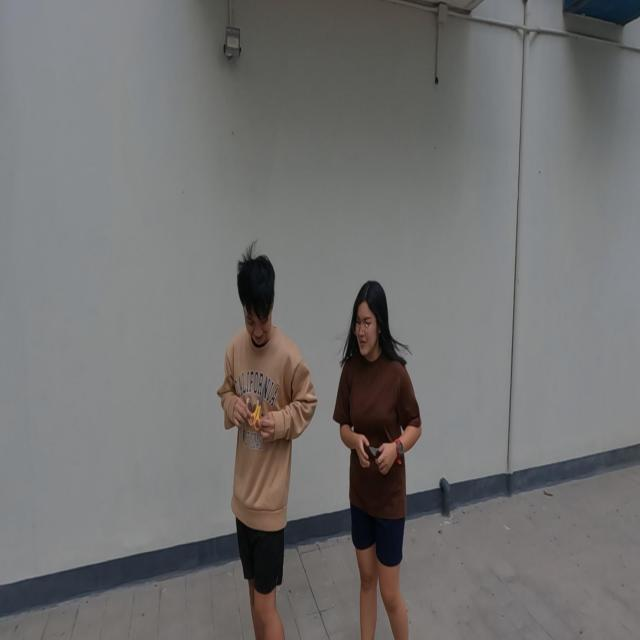scissor: (248, 384, 265, 432)
